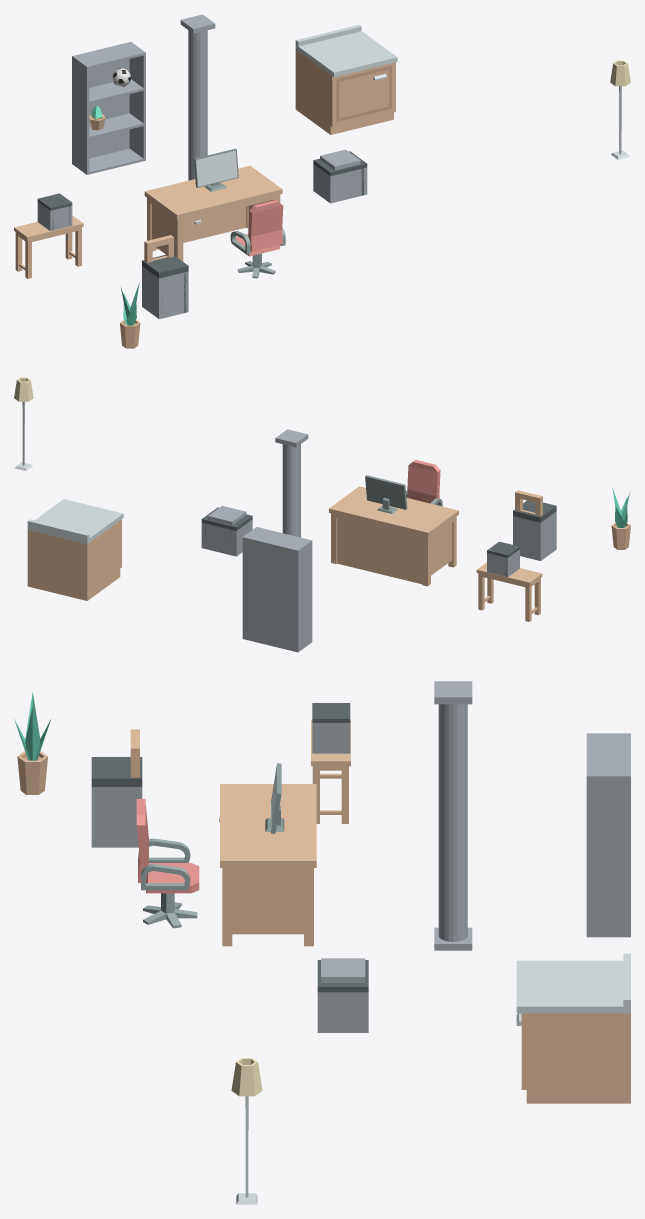
3 renders of one model, top to bottom at view 1: azimuth 30°, elevation 25°; view 2: azimuth 150°, elevation 25°; view 3: azimuth 270°, elevation 25°, orthographic. The views are drawn at different scales.
Parts seen in each view (by area): view 1: cabinet_blue__kitchenCabinet(Clone), desk_blue__desk(Clone), column_cyan__column_cyan shaft, cabinet_blue__door, shelf_orange__shelf_orange back, deskchair_black__chair, shelf_orange__shelf_orange side_l, bin_gray__bin_gray shell, sidetable_brown__sideTable(Clone), crate_red__crate_red shell, monitor_gray__computerScreen(Clone), shelf_orange__shelf_orange side_r (+10 smaller); view 2: desk_blue__desk(Clone), cabinet_blue__kitchenCabinet(Clone), shelf_orange__shelf_orange back, shelf_orange__shelf_orange side_l, column_cyan__column_cyan shaft, bin_gray__bin_gray shell, sidetable_brown__sideTable(Clone), deskchair_black__chair, crate_red__crate_red shell, monitor_gray__computerScreen(Clone), shelf_orange__shelf_orange board3, lamp_white__lampRoundFloor(Clone) (+6 smaller); view 3: cabinet_blue__kitchenCabinet(Clone), desk_blue__desk(Clone), shelf_orange__shelf_orange side_r, column_cyan__column_cyan shaft, deskchair_black__chair, bin_gray__bin_gray shell, crate_red__crate_red shell, shelf_orange__shelf_orange board3, sidetable_brown__sideTable(Clone), lamp_white__lampRoundFloor(Clone), bin_gray__bin_gray lid, box_yellow__box_yellow shell (+7 smaller).
Part boxes in pixels (x1,y1,x2,y2): cabinet_blue__kitchenCabinet(Clone): (295,25,397,134); desk_blue__desk(Clone): (144,165,282,261); column_cyan__column_cyan shaft: (188,30,207,180); cabinet_blue__door: (336,66,391,122); shelf_orange__shelf_orange back: (74,42,129,158); deskchair_black__chair: (230,200,285,256); shelf_orange__shelf_orange side_l: (72,55,89,174); bin_gray__bin_gray shell: (142,266,188,319); sidetable_brown__sideTable(Clone): (14,215,83,278); crate_red__crate_red shell: (313,164,367,203); monitor_gray__computerScreen(Clone): (194,148,238,191); shelf_orange__shelf_orange side_r: (129,42,145,160); desk_blue__desk(Clone): (329,486,458,586); cabinet_blue__kitchenCabinet(Clone): (27,499,123,600); shelf_orange__shelf_orange back: (244,537,296,651); shelf_orange__shelf_orange side_l: (296,540,312,652); column_cyan__column_cyan shaft: (282,444,300,537); bin_gray__bin_gray shell: (513,511,556,560); sidetable_brown__sideTable(Clone): (476,562,542,621); deskchair_black__chair: (406,460,442,506); crate_red__crate_red shell: (201,519,252,556); monitor_gray__computerScreen(Clone): (365,475,407,513); shelf_orange__shelf_orange board3: (246,527,309,549); lamp_white__lampRoundFloor(Clone): (14,377,33,470); cabinet_blue__kitchenCabinet(Clone): (516,953,630,1103); desk_blue__desk(Clone): (220,784,316,946); shelf_orange__shelf_orange side_r: (586,774,630,937); column_cyan__column_cyan shaft: (438,704,467,941); deskchair_black__chair: (136,799,199,893); bin_gray__bin_gray shell: (91,787,142,847); crate_red__crate_red shell: (317,992,368,1032); shelf_orange__shelf_orange board3: (586,734,628,774); sidetable_brown__sideTable(Clone): (311,720,350,823); lamp_white__lampRoundFloor(Clone): (231,1058,262,1204); bin_gray__bin_gray lid: (91,757,142,786); box_yellow__box_yellow shell: (312,723,350,753).
Bounding box in the file's own units: 7.86 × 2.2 × 4.86.
